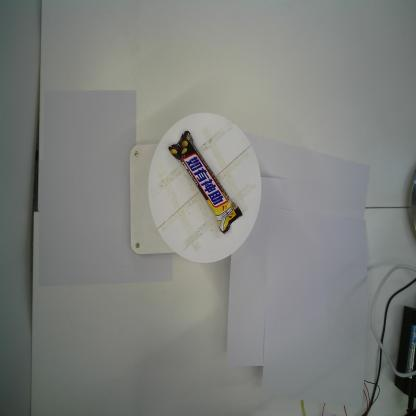Chocolate: (168, 130, 243, 235)
